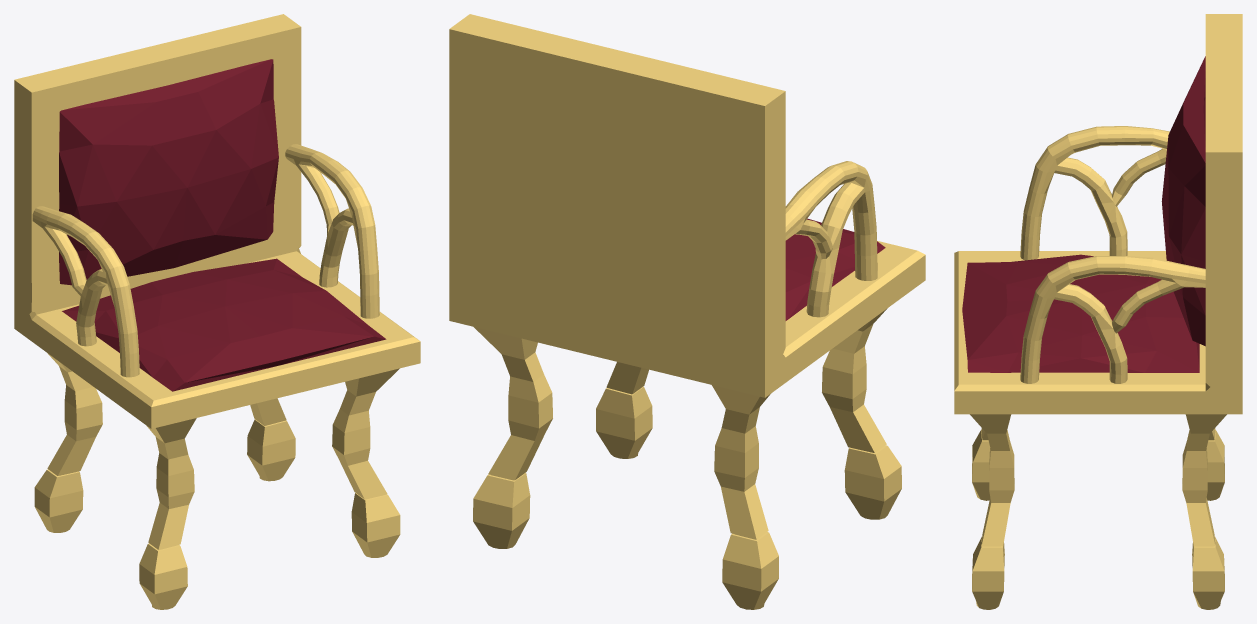
Rendered from chair_001_grp.fbx.
3 views of the same model, side by side, from view 1: azimuth 30°, elevation 25°; view 2: azimuth 150°, elevation 25°; view 3: azimuth 270°, elevation 25° (orthographic). The views are drawn at different scales.
Visible parts, largest first — view 1: chair_001_grp; view 2: chair_001_grp; view 3: chair_001_grp.
Boxes of the visible parts, x1,y1,x2,y2 form: chair_001_grp: (14,14,420,609); chair_001_grp: (449,14,925,609); chair_001_grp: (954,14,1242,609).
Size of the model in its own units: 80 by 125 by 70.
